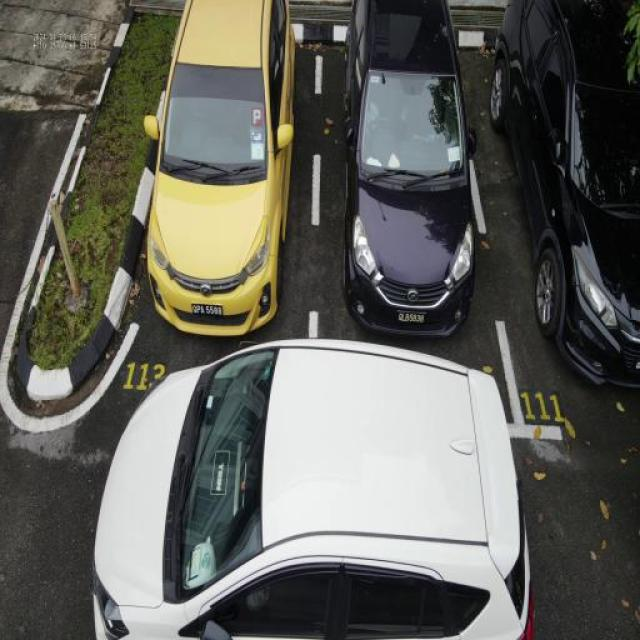Legalparking: (490, 0, 639, 388), (144, 0, 294, 334), (344, 0, 475, 335)
illegalparking: (92, 340, 532, 639)
